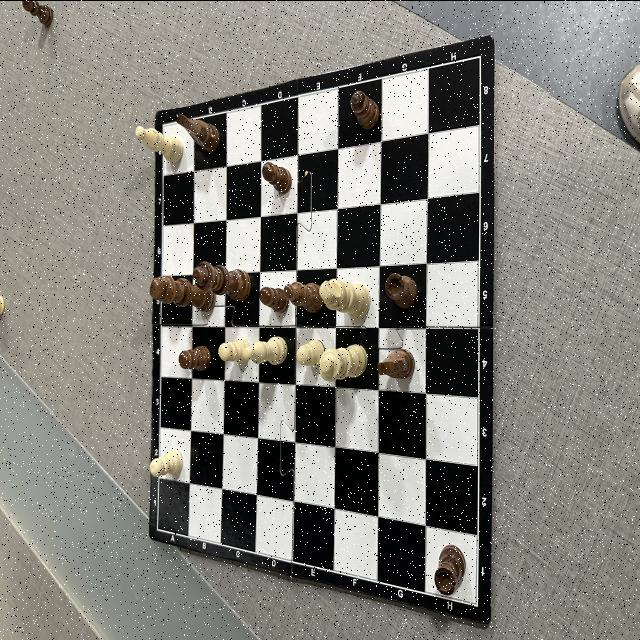Black-Bishop: (284, 280, 324, 312)
Black-King: (150, 275, 216, 311)
Black-Knight: (176, 112, 220, 152), (378, 348, 416, 378)
Black-Pawn: (351, 90, 379, 130), (262, 160, 292, 193), (178, 344, 210, 370), (259, 286, 290, 312)
Black-Queen: (192, 260, 252, 300)
Black-Rook: (434, 543, 466, 595), (385, 272, 418, 308)
White-Bishop: (136, 125, 183, 163), (243, 334, 288, 364)
White-King: (319, 278, 371, 318)
White-Pawn: (150, 448, 183, 477), (296, 338, 324, 366), (218, 337, 249, 362)
White-Queen: (319, 343, 368, 381)
